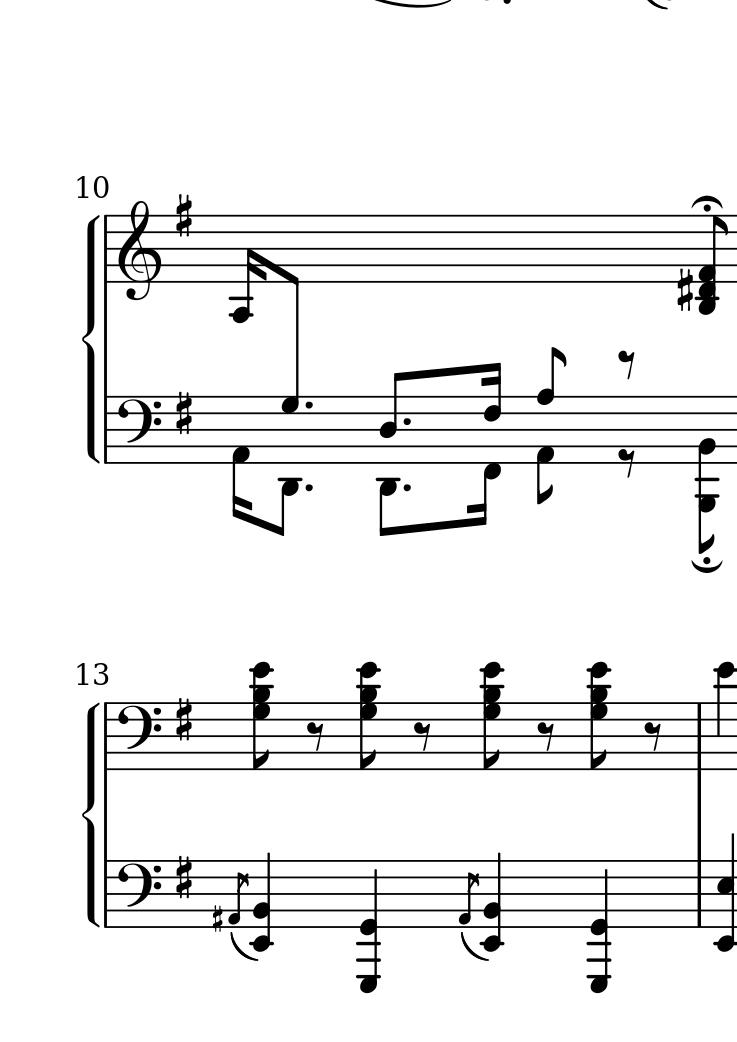0: (92, 173, 110, 200)
1: (75, 173, 89, 201), (75, 661, 89, 688)
16_-1_6: (466, 362, 504, 528)
16_1: (231, 394, 251, 521)
3: (93, 661, 109, 687)
4_-2_2: (250, 853, 275, 954), (479, 851, 504, 952)
4_-2_5: (713, 833, 737, 953)
4_-7_0: (355, 860, 384, 994), (583, 860, 612, 994)
4_12: (712, 661, 737, 771)
8_-3_4: (377, 371, 408, 536)
8_-4: (228, 214, 267, 323)
8_-5_2: (695, 395, 719, 556)
8_1_8: (536, 347, 566, 506)
8_th: (694, 213, 726, 320), (247, 659, 275, 772), (354, 659, 382, 772), (477, 659, 505, 772), (584, 659, 612, 772)
Acciaccature: (226, 856, 251, 930), (457, 862, 482, 931)
Brace: (80, 210, 102, 469), (83, 698, 101, 925)
Fclef: (115, 859, 163, 930), (115, 700, 162, 772), (115, 394, 162, 464)
Fermata_above: (688, 193, 725, 213), (689, 556, 724, 574)
Gclef: (116, 198, 161, 301)
Rests8: (615, 347, 640, 379), (616, 446, 640, 479), (305, 720, 328, 752), (535, 720, 558, 752), (642, 720, 665, 752), (412, 720, 434, 752)
Sharp: (170, 852, 196, 902), (173, 696, 195, 745), (173, 390, 195, 438), (675, 265, 695, 315), (173, 193, 194, 240), (209, 903, 226, 934)
Single_barline: (691, 860, 708, 927), (100, 396, 115, 464), (100, 861, 115, 928), (692, 703, 707, 769), (100, 704, 115, 769), (100, 214, 114, 283)
Slur: (458, 930, 490, 962), (228, 931, 259, 962)
dot: (302, 398, 317, 412), (302, 481, 316, 495), (400, 415, 413, 429), (400, 481, 414, 494)
